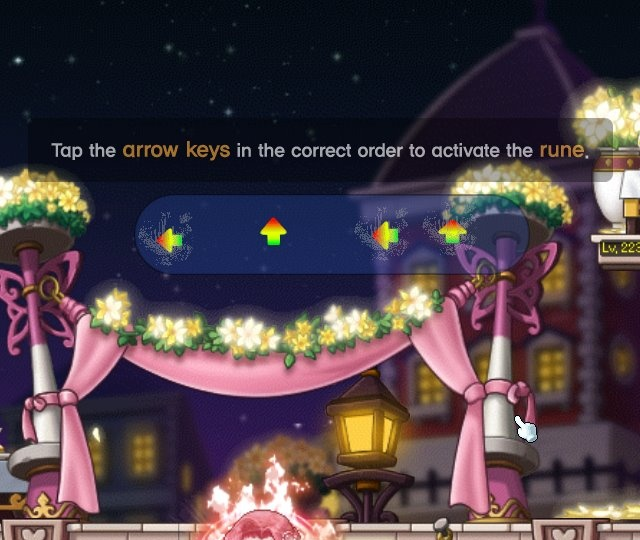left: (364, 215, 406, 255), (150, 223, 189, 257)
up: (255, 211, 292, 257), (434, 213, 476, 253)
